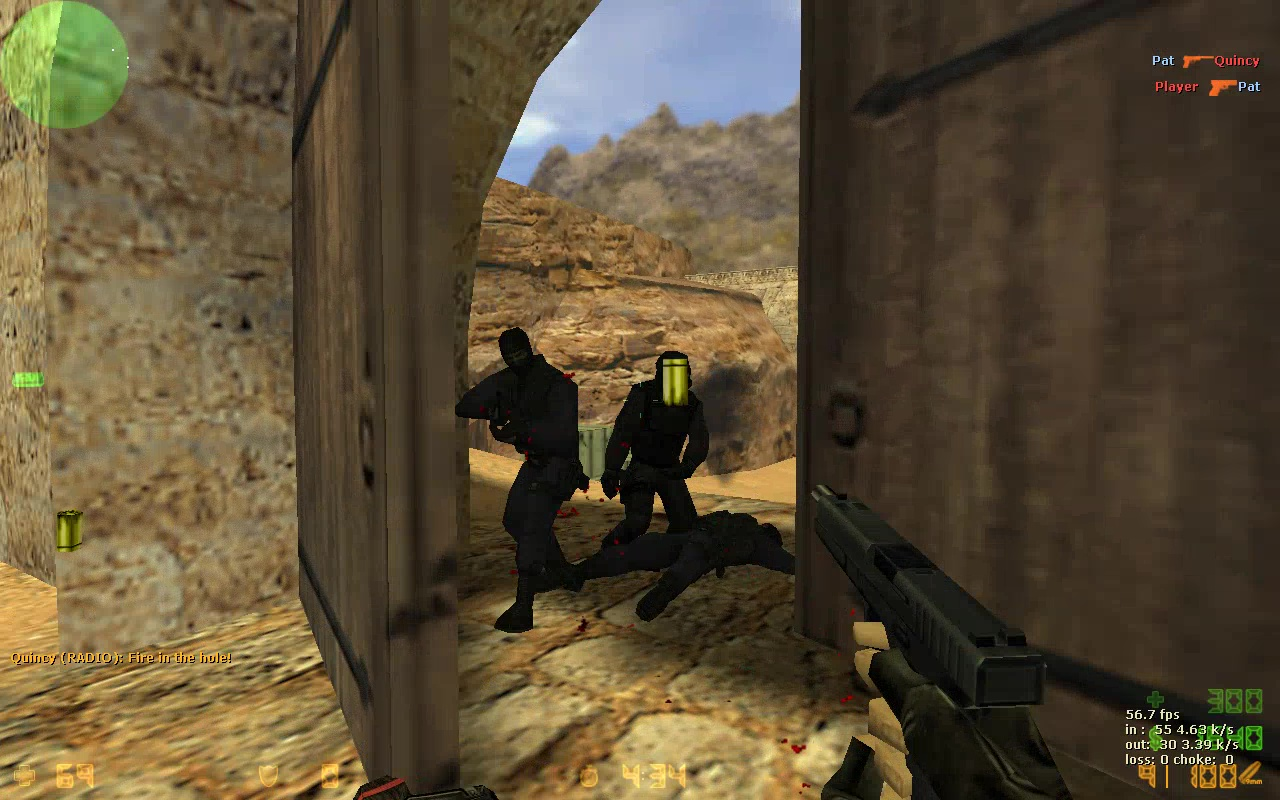ct: (452, 329, 583, 614), (599, 349, 700, 558)
dead: (553, 513, 793, 622)
